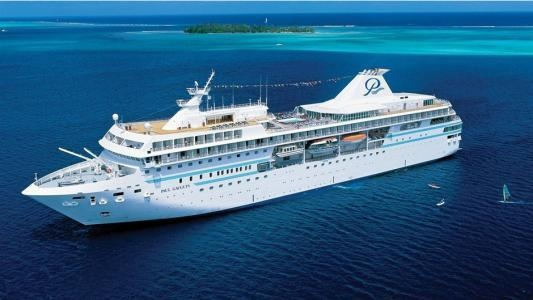youlun: (18, 50, 462, 234)
